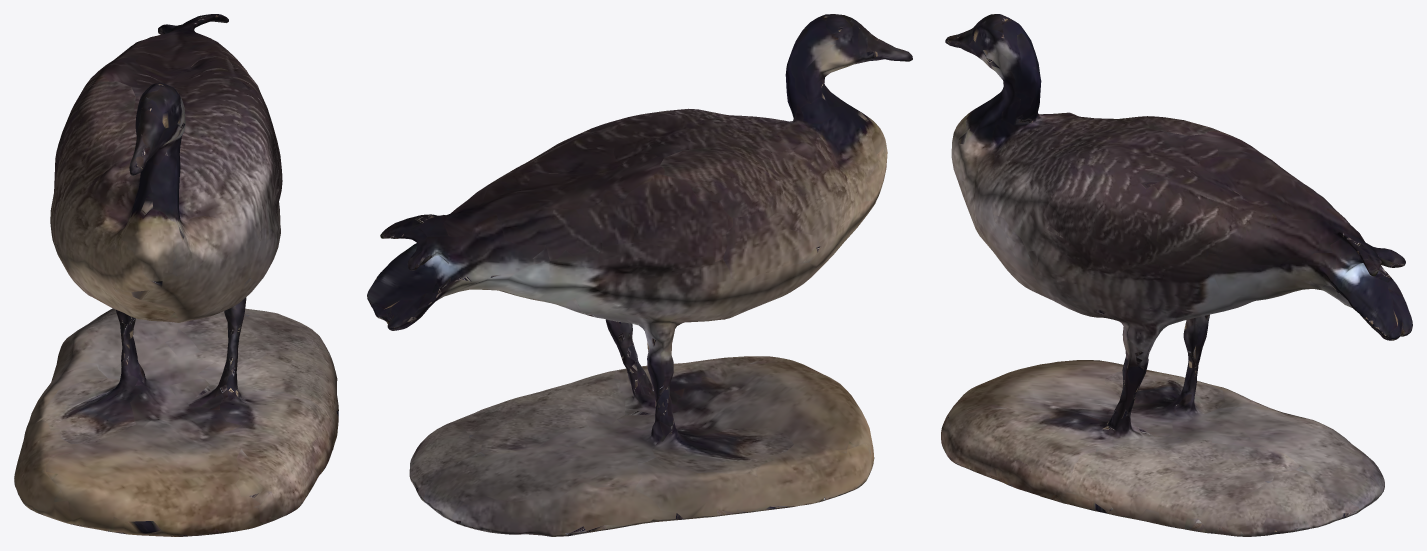
Rendered from goose.glb.
The picture shows the model from 3 angles, left to right: view 1: azimuth 30°, elevation 25°; view 2: azimuth 150°, elevation 25°; view 3: azimuth 270°, elevation 25°; orthographic projection. The views are drawn at different scales.
Parts seen in each view (by area): view 1: material_0-material; view 2: material_0-material; view 3: material_0-material.
Part boxes in pixels (bbox=[...]): material_0-material: bbox=[14, 14, 338, 536]; material_0-material: bbox=[367, 14, 912, 536]; material_0-material: bbox=[941, 14, 1412, 536].
Bounding box in the file's own units: 0.4477 × 0.5 × 0.5315.
1 material, 1 textured.
